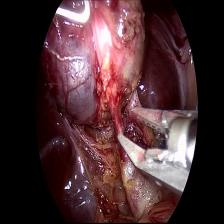Clipper: (114, 97, 198, 199)
